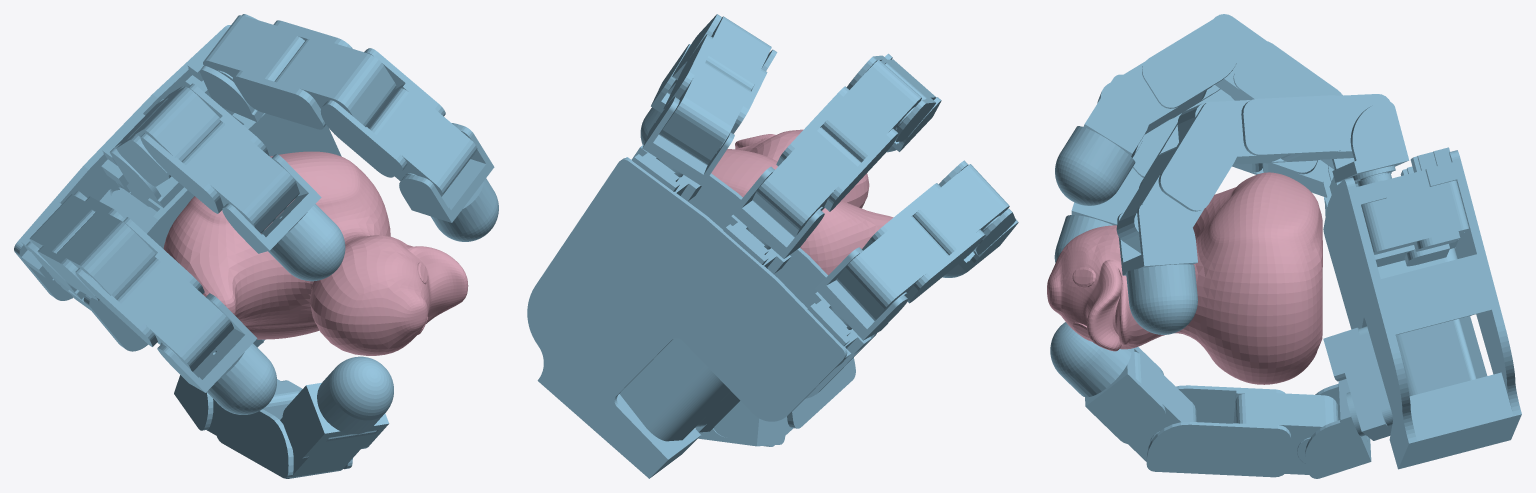
3 renders of one model, left to right at view 1: azimuth 30°, elevation 25°; view 2: azimuth 150°, elevation 25°; view 3: azimuth 270°, elevation 25°, orthographic. The views are drawn at different scales.
Parts seen in each view (by area): view 1: world, rubber_duck.stl; view 2: world, rubber_duck.stl; view 3: world, rubber_duck.stl.
Part boxes in pixels (left/top/right/bottom): world: left=14, top=14, right=498, bottom=478; rubber_duck.stl: left=163, top=151, right=468, bottom=355; world: left=527, top=14, right=1018, bottom=478; rubber_duck.stl: left=711, top=129, right=893, bottom=275; world: left=1050, top=14, right=1521, bottom=478; rubber_duck.stl: left=1047, top=172, right=1322, bottom=384.
Size of the model in its own units: 0.1658 by 0.156 by 0.1651.
